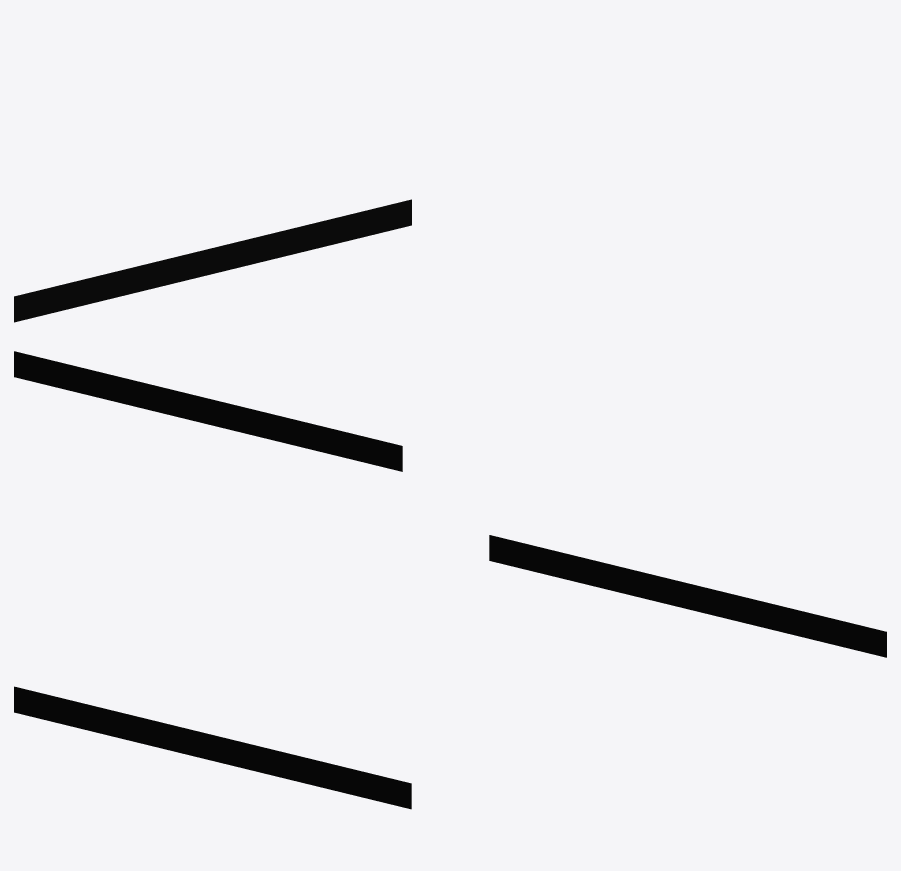
Rendered from LAKETOWN_PUB_PS_PUB_DIRT_LAYER_08.fbx.
The picture shows the model from 3 angles, top to bottom: view 1: azimuth 30°, elevation 25°; view 2: azimuth 150°, elevation 25°; view 3: azimuth 330°, elevation 25°; orthographic projection.
Visible parts, largest first — view 1: LAKETOWN_PUB_PS_PUB_DIRT_LAYER_08; view 2: LAKETOWN_PUB_PS_PUB_DIRT_LAYER_08; view 3: LAKETOWN_PUB_PS_PUB_DIRT_LAYER_08.
Part boxes in pixels (left/top/right/bottom): LAKETOWN_PUB_PS_PUB_DIRT_LAYER_08: left=14, top=199, right=411, bottom=322; LAKETOWN_PUB_PS_PUB_DIRT_LAYER_08: left=14, top=351, right=886, bottom=657; LAKETOWN_PUB_PS_PUB_DIRT_LAYER_08: left=14, top=686, right=411, bottom=809.
Size of the model in its own units: 108046 by 11166 by 135.
Materials: 1 (1 with a texture image).
